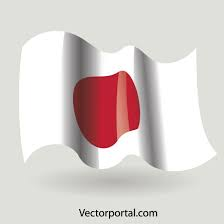Japanese Flag: (16, 30, 219, 183)
